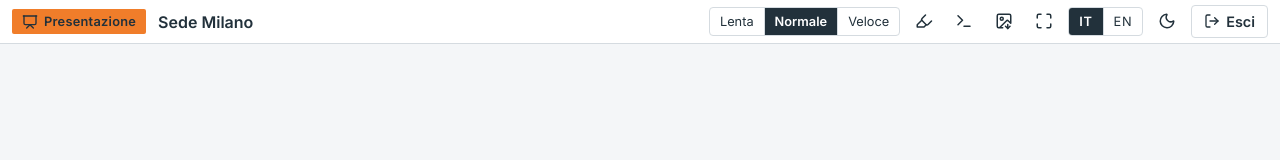
Test case: PresentationBar › sets the pace of the packet
Later steps or results of the test are not shown.
Click the button "Veloce": (868, 22) 837,8 -> 899,35
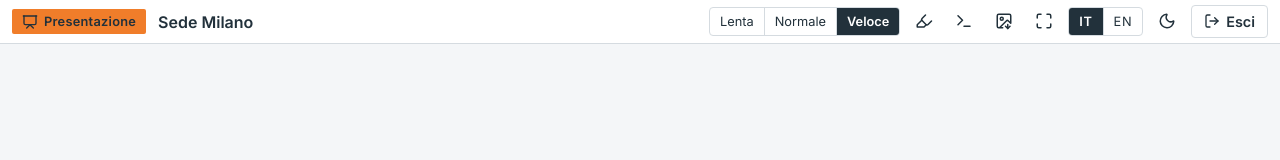
Expected: the button "Veloce" is pressed, 836,8 -> 899,35
